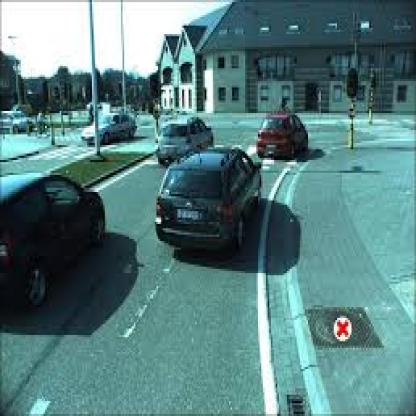car: (0, 148, 129, 316), (154, 149, 270, 256), (144, 105, 220, 168), (250, 110, 315, 160), (87, 100, 143, 150)
